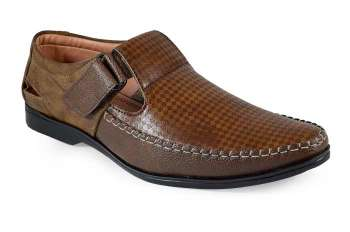Footwear: (19, 23, 335, 194)
